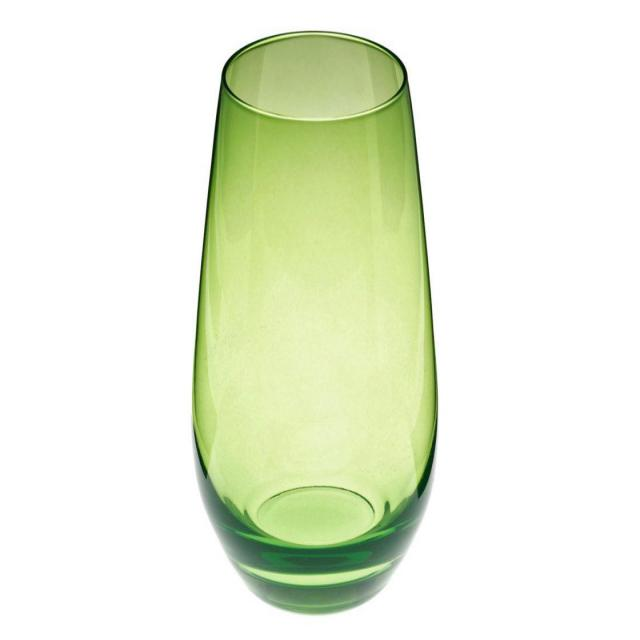non-organic waste: (177, 19, 445, 629)
